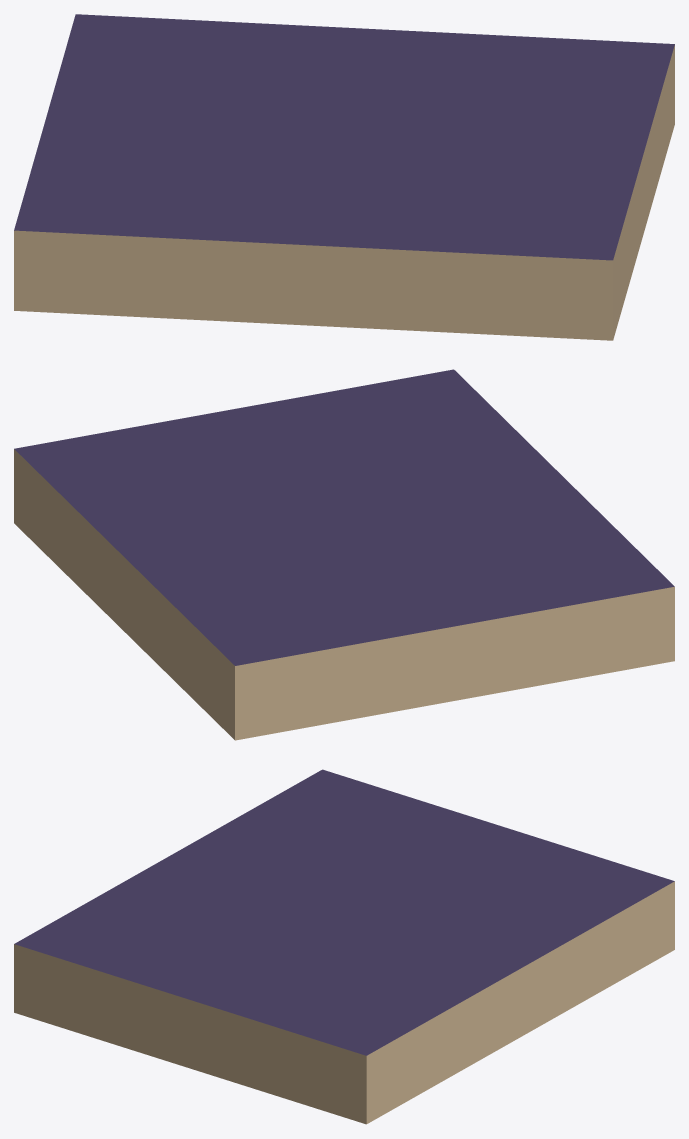
The picture shows the model from 3 angles, top to bottom: view 1: azimuth 30°, elevation 25°; view 2: azimuth 150°, elevation 25°; view 3: azimuth 270°, elevation 25°; orthographic projection. The views are drawn at different scales.
Parts seen in each view (by area): view 1: campus/b-068-0; view 2: campus/b-068-0; view 3: campus/b-068-0.
Boxes of the visible parts, bbox=[...] form: campus/b-068-0: bbox=[14, 14, 674, 340]; campus/b-068-0: bbox=[14, 369, 674, 740]; campus/b-068-0: bbox=[14, 769, 674, 1124].
Size of the model in its own units: 26.86 by 3 by 26.19.
